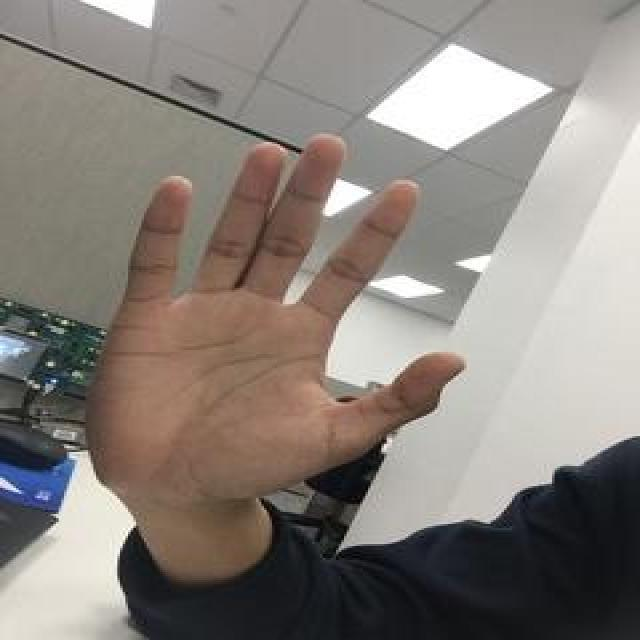no-gloves: (82, 131, 466, 509)
